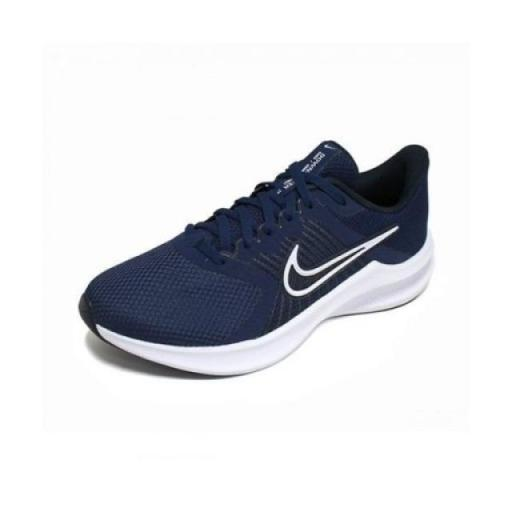Nike: (278, 226, 401, 307)
